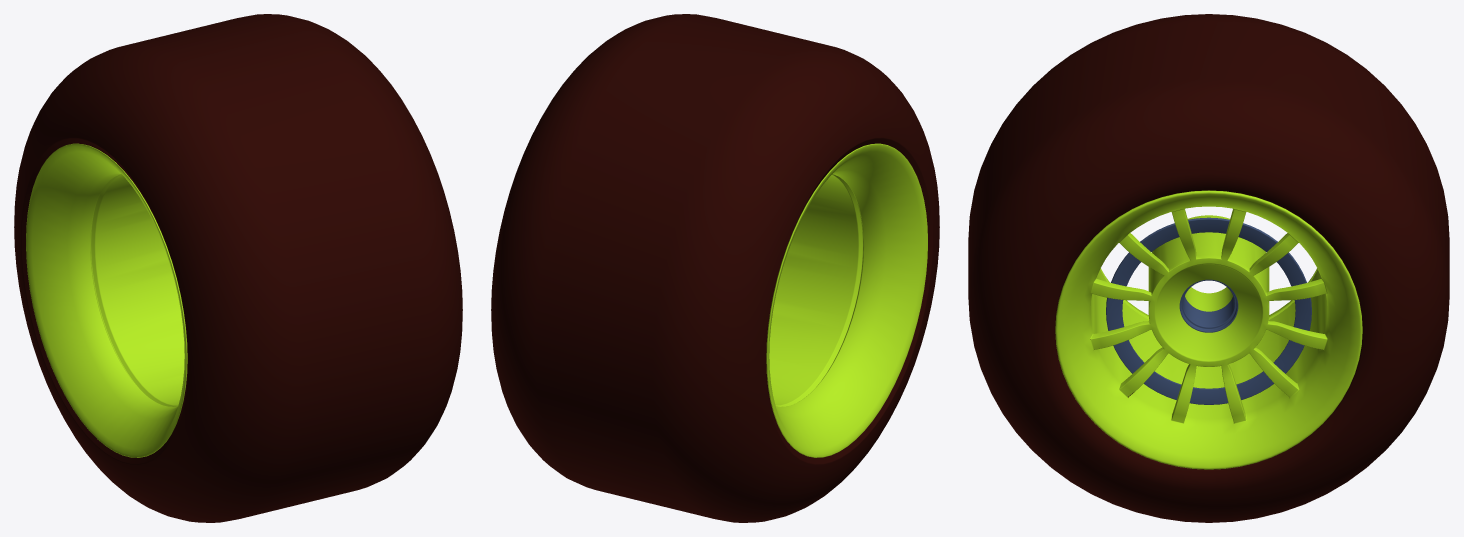
Rendered from rrota.fbx.
3 renders of one model, left to right at view 1: azimuth 30°, elevation 25°; view 2: azimuth 150°, elevation 25°; view 3: azimuth 270°, elevation 25°, orthographic.
Parts seen in each view (by area): view 1: goma, fellme; view 2: goma, fellme; view 3: goma, fellme, Disku.
Part boxes in pixels (left/top/right/bottom): goma: left=14, top=14, right=462, bottom=522; fellme: left=26, top=143, right=187, bottom=457; goma: left=491, top=14, right=939, bottom=522; fellme: left=766, top=143, right=927, bottom=457; goma: left=968, top=14, right=1449, bottom=522; fellme: left=1055, top=190, right=1362, bottom=469; Disku: left=1106, top=217, right=1311, bottom=404.
Bounding box in the file's own units: 126 × 200 × 200.
